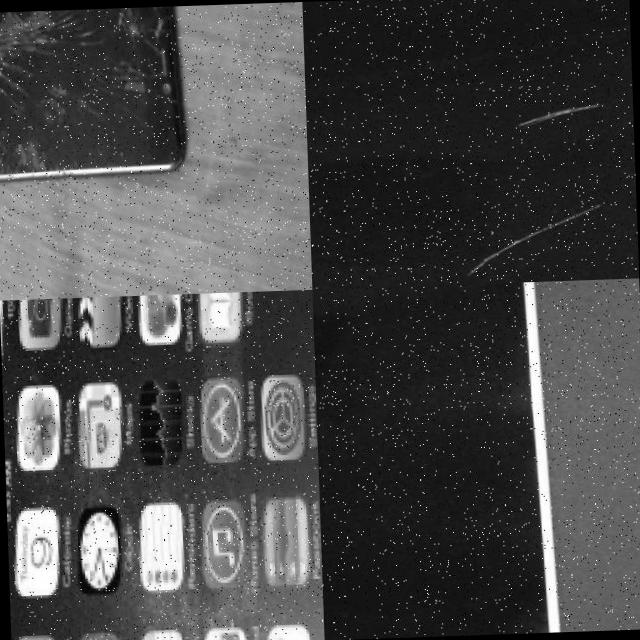scratch: (457, 201, 611, 281), (516, 102, 602, 127)
screen crack: (0, 5, 178, 161)
